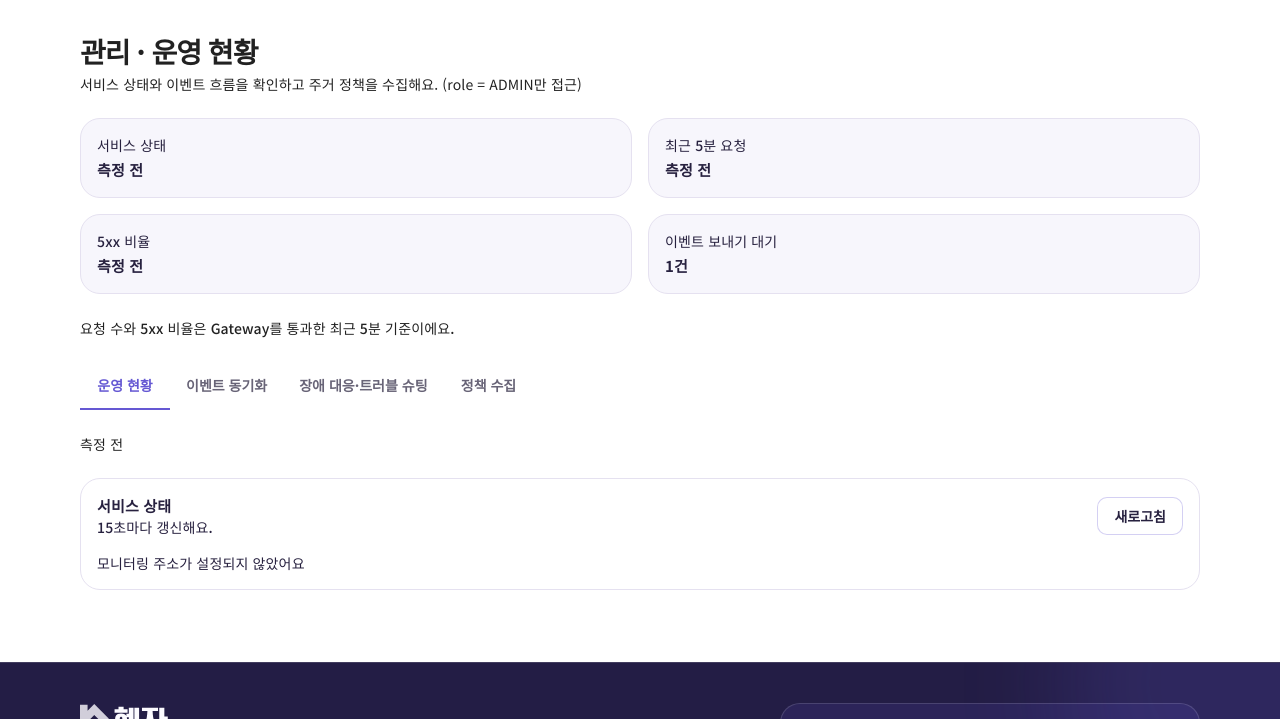
Test: 관리자 이벤트 동기화 상태 › 화면을 열면 보내기 대기·보낸 건수와 최근 이벤트를 보여 준다
Expected: the heading "관리 · 운영 현황" is shown, top-left (80, 31), bottom-right (257, 71)
Click the tab "이벤트 동기화": coordinates (227, 386) top-left (170, 362), bottom-right (283, 410)
(page scrolled)
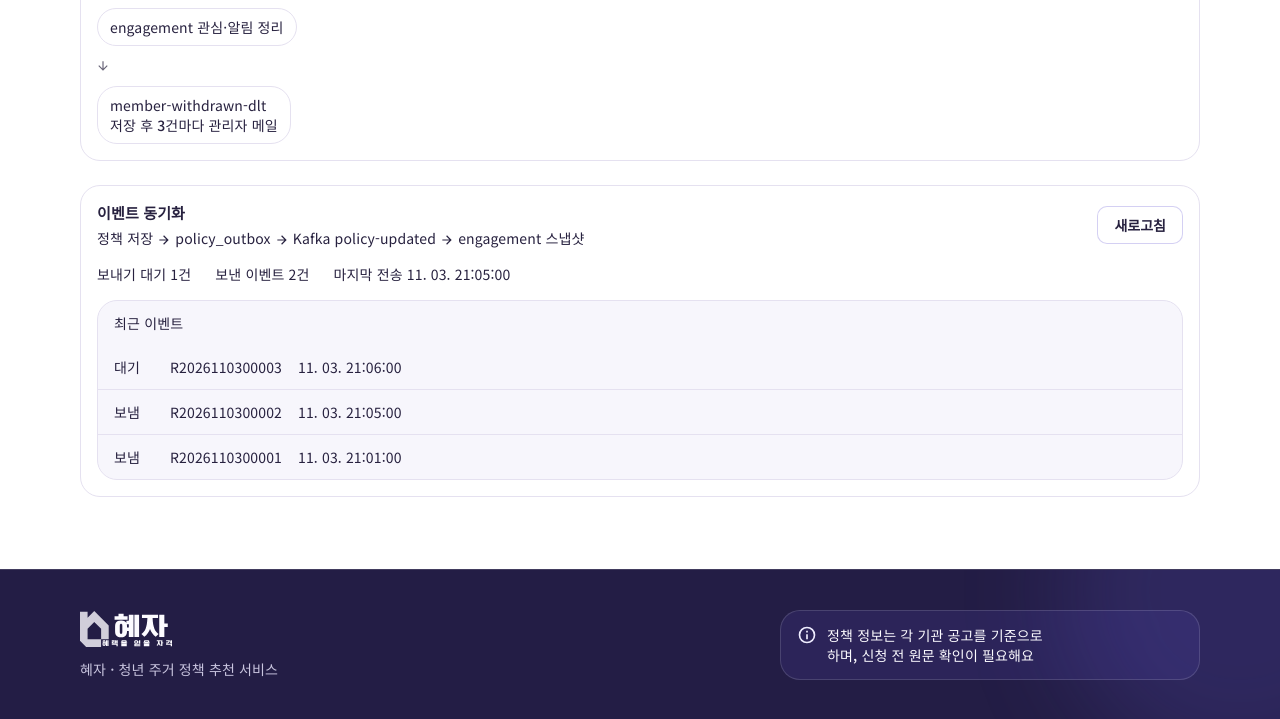
Now the text "보내기 대기 1건" is shown, box top-left (97, 264), bottom-right (191, 284)
Now the text "보낸 이벤트 2건" is shown, box top-left (215, 264), bottom-right (310, 284)
Now the text "R2026110300003" is shown, box top-left (170, 357), bottom-right (282, 377)
